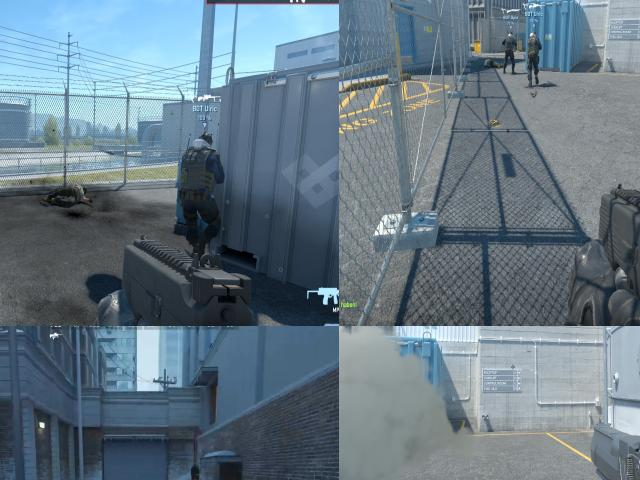Bomb: (488, 117, 501, 128)
CT: (181, 126, 221, 258), (528, 31, 539, 85), (504, 30, 515, 73)
CT-Head: (190, 131, 214, 149), (508, 30, 514, 38), (529, 31, 536, 37)
Dead: (41, 179, 96, 209), (485, 57, 503, 70)
T: (186, 456, 213, 480)
T-Head: (188, 462, 202, 480)
